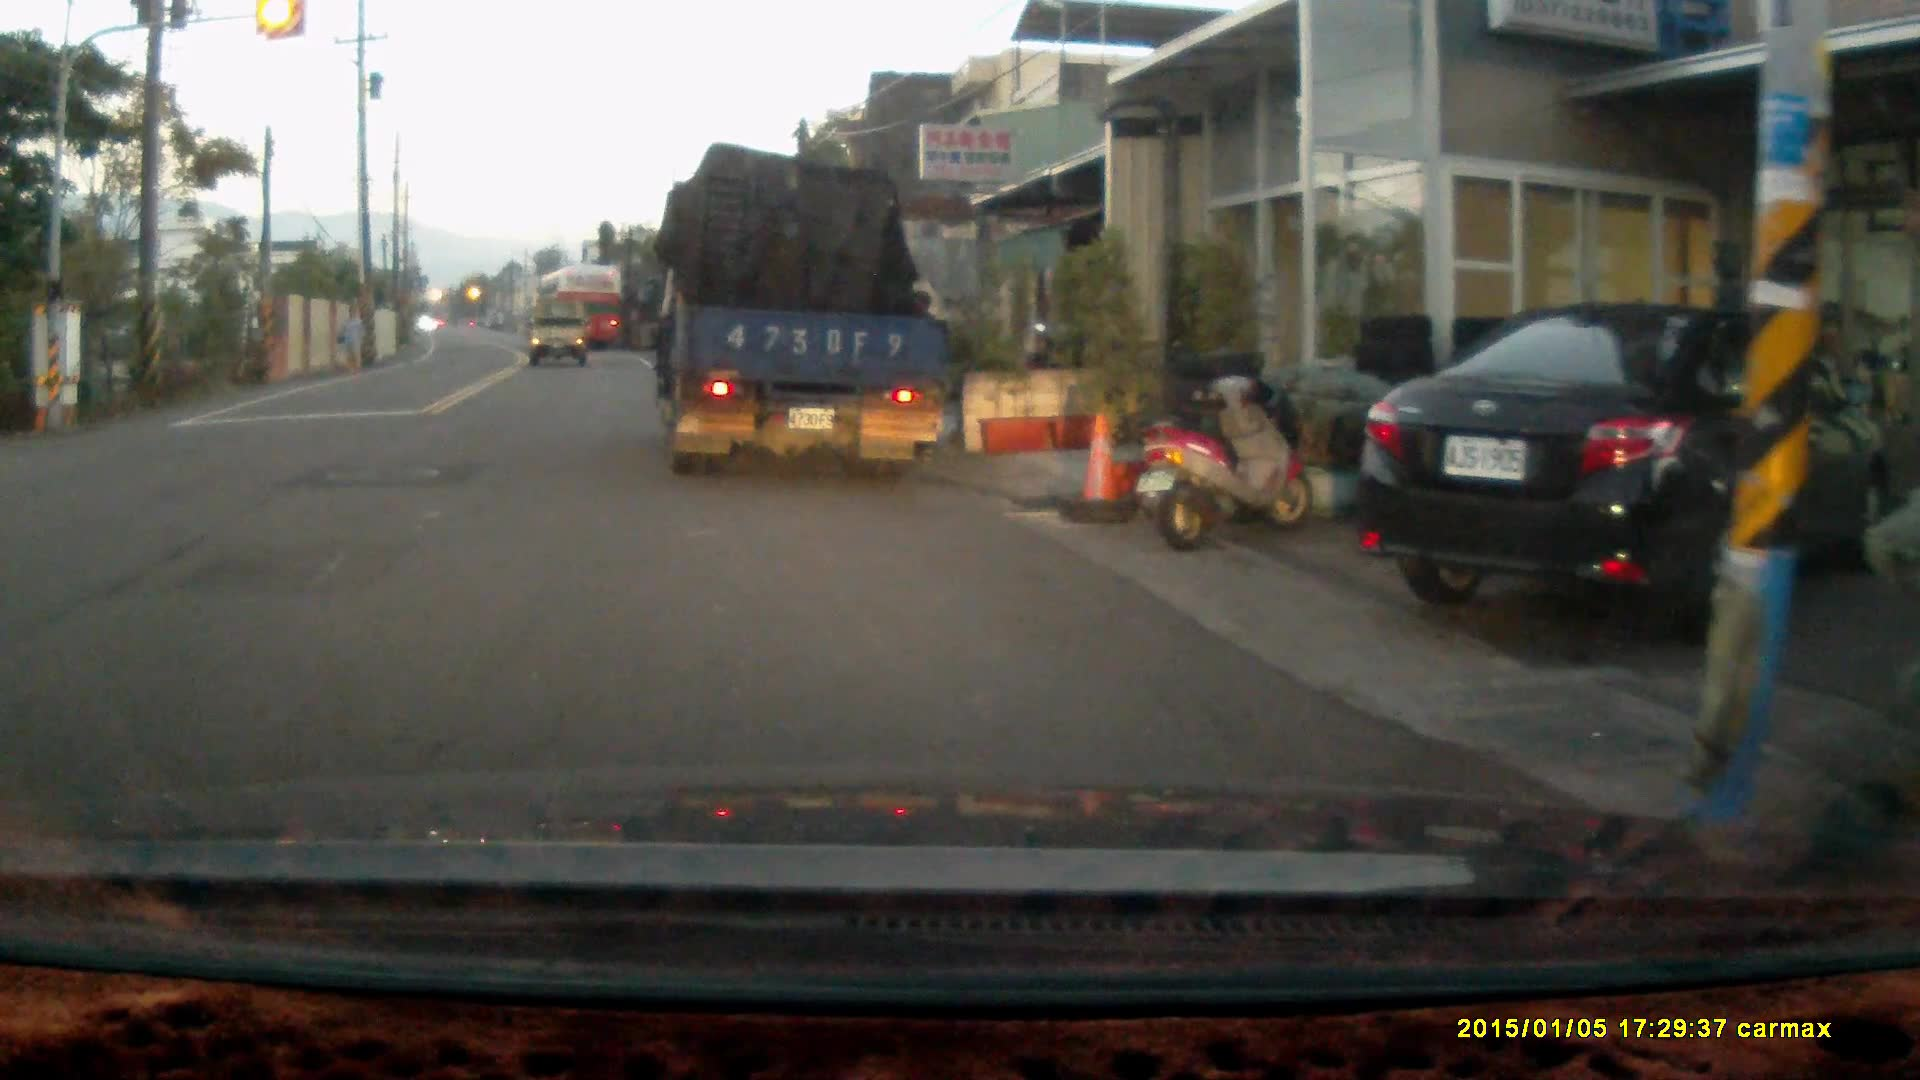pedestrian: (331, 299, 364, 369)
vehicle: (1345, 296, 1894, 633), (647, 150, 943, 482), (539, 263, 630, 348), (528, 297, 592, 370)
